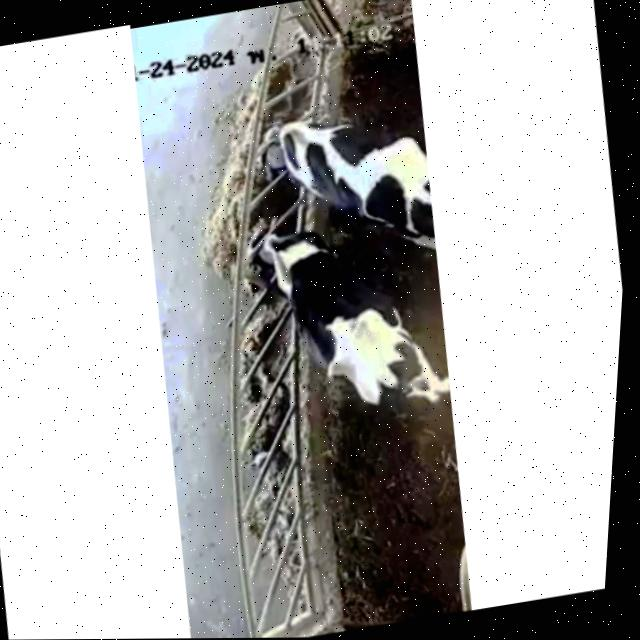eat: (209, 99, 363, 197), (187, 203, 327, 310)
